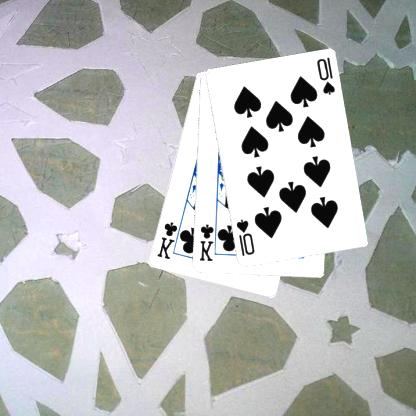10S: (316, 55, 338, 97), (235, 217, 257, 258)
KC: (156, 218, 185, 261), (198, 218, 219, 262)
